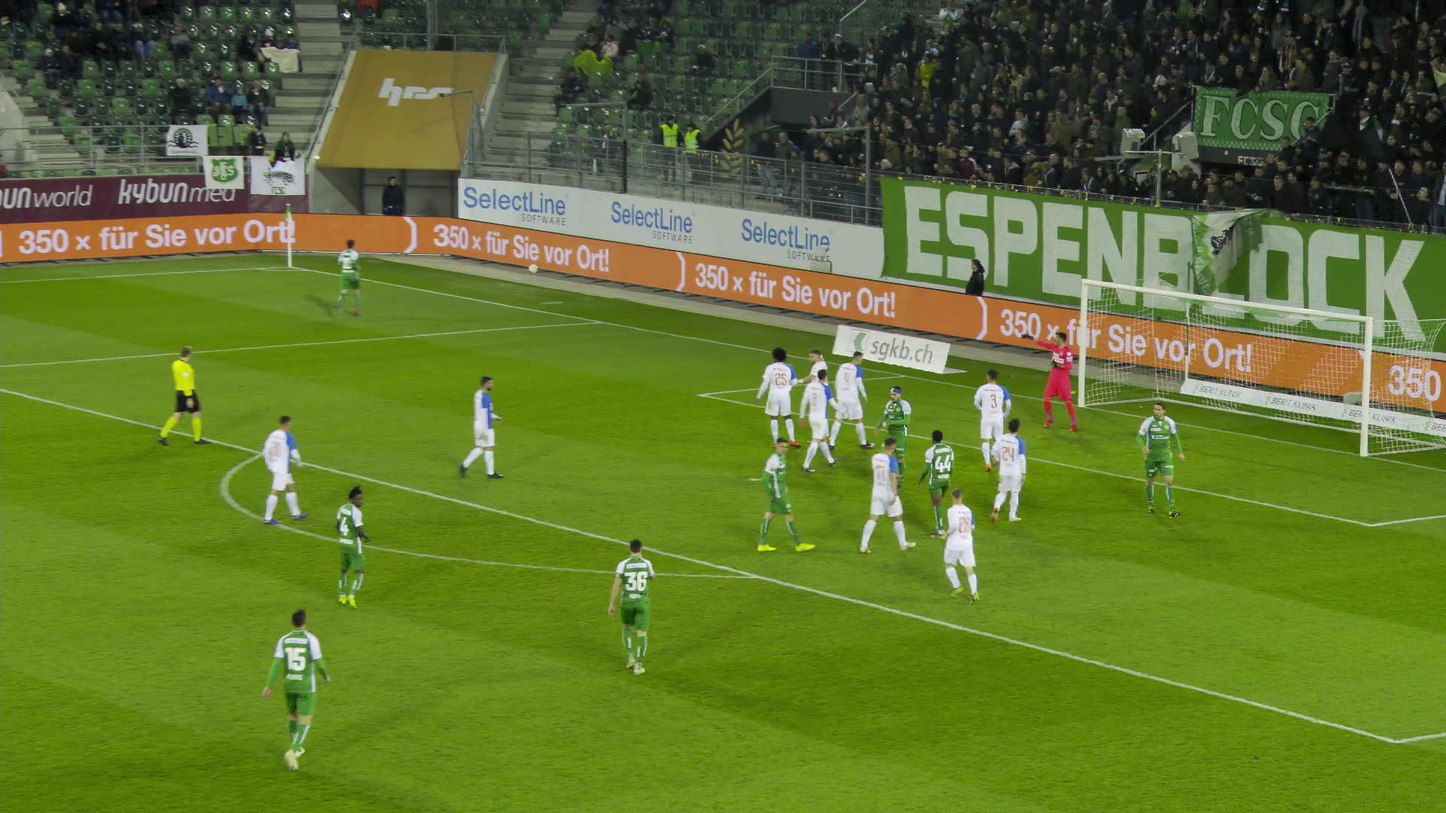ball: (527, 263, 535, 274)
player: (262, 607, 321, 772), (758, 437, 816, 552), (860, 434, 913, 553), (608, 539, 654, 672), (238, 419, 292, 527), (1131, 400, 1179, 516), (329, 486, 369, 614), (941, 488, 984, 606), (1031, 331, 1077, 429), (824, 349, 868, 451), (453, 375, 495, 479), (965, 369, 1009, 468), (800, 370, 842, 470), (985, 419, 1023, 525), (749, 347, 789, 446), (877, 385, 911, 487), (918, 430, 950, 525), (800, 349, 826, 445), (328, 242, 358, 319)
referee: (154, 343, 200, 449)
